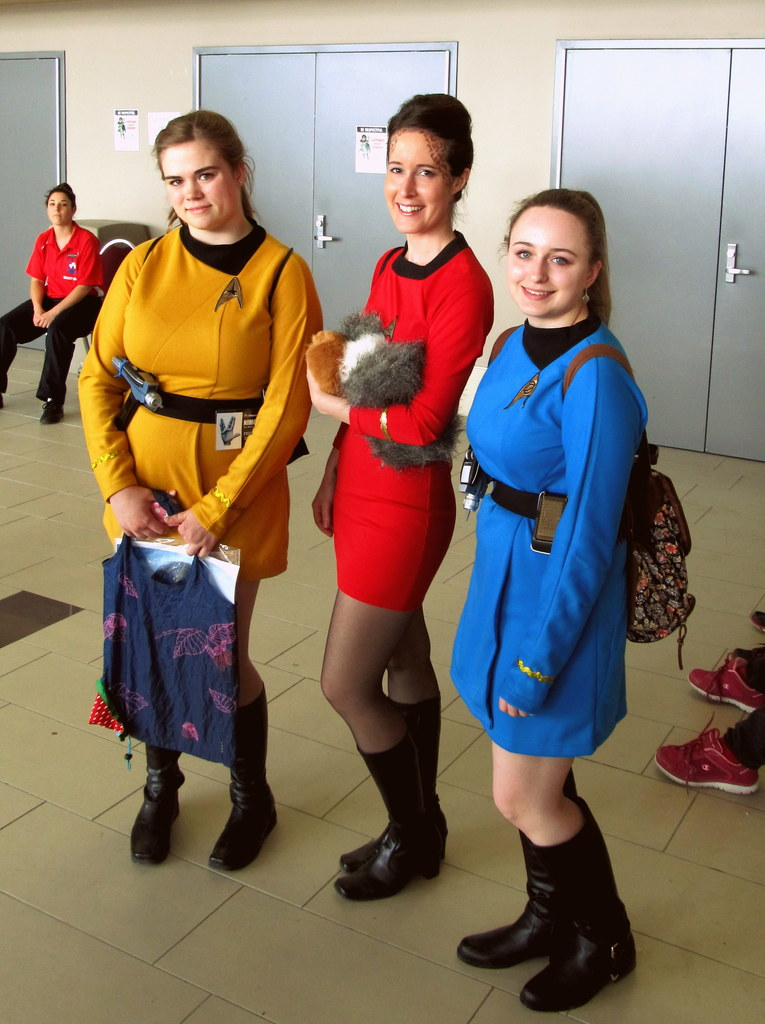Person: (0, 93, 764, 1011)
